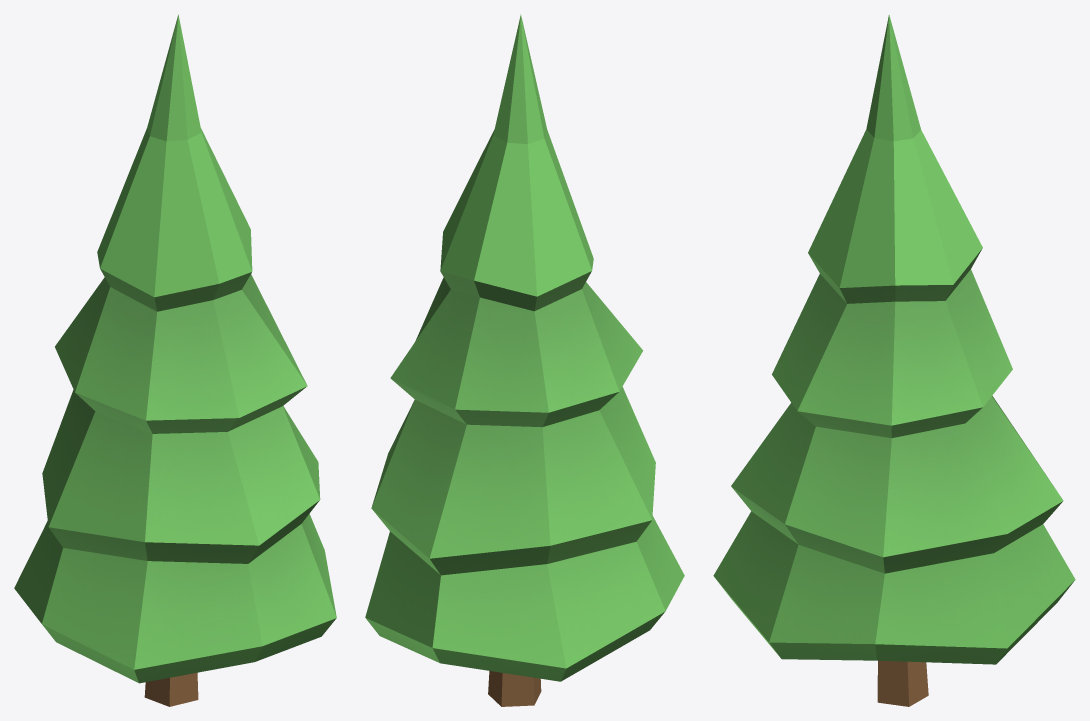
The model's file is Fir_Tree_m_01.fbx.
3 views of the same model, side by side, from view 1: azimuth 30°, elevation 25°; view 2: azimuth 150°, elevation 25°; view 3: azimuth 270°, elevation 25° (orthographic).
Parts seen in each view (by area): view 1: Fir_Tree_m_01; view 2: Fir_Tree_m_01; view 3: Fir_Tree_m_01.
Part boxes in pixels (x1,y1,x2,y2): Fir_Tree_m_01: (14, 14, 336, 706); Fir_Tree_m_01: (365, 14, 684, 706); Fir_Tree_m_01: (713, 14, 1075, 706).
Size of the model in its own units: 312 by 728 by 351.
